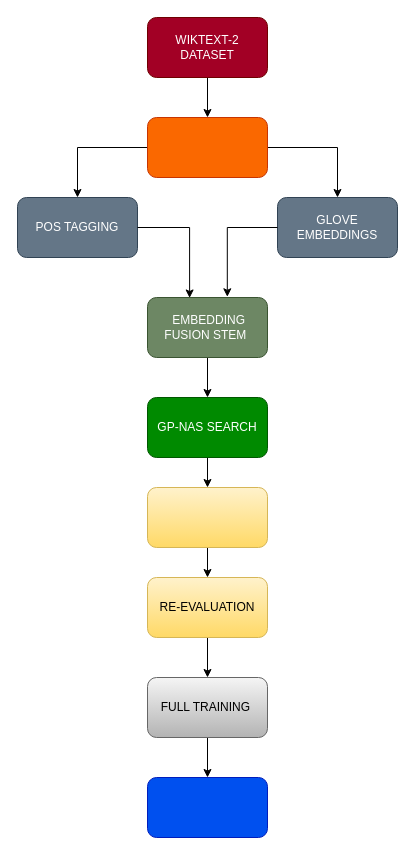
Image size: 415x855. Some labels were removed from this diagram. Each missing label, with the centre of its shape:
PREPROCESSING: [207,147]
PROXY EVALUATION: [207,517]
RESULTS: [207,807]
